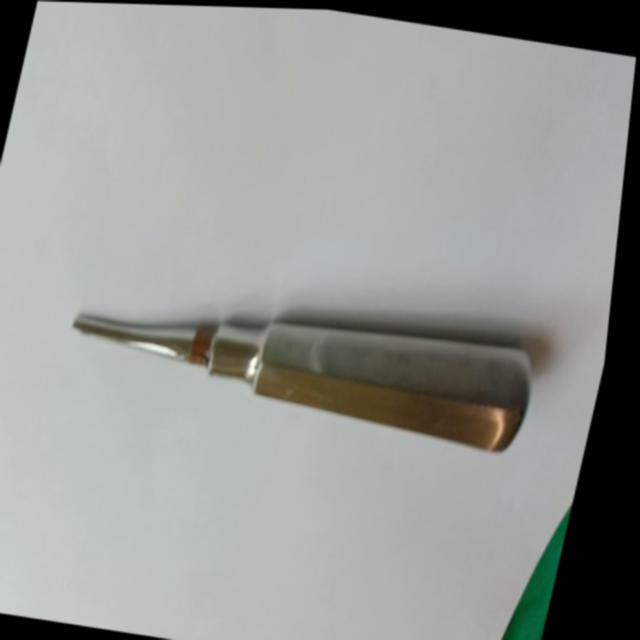Coupland1: (53, 266, 567, 469)
